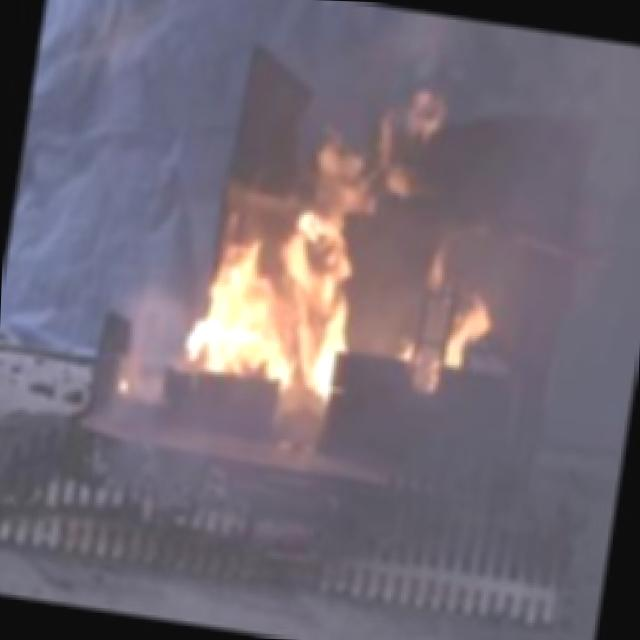fire: (164, 50, 442, 441)
